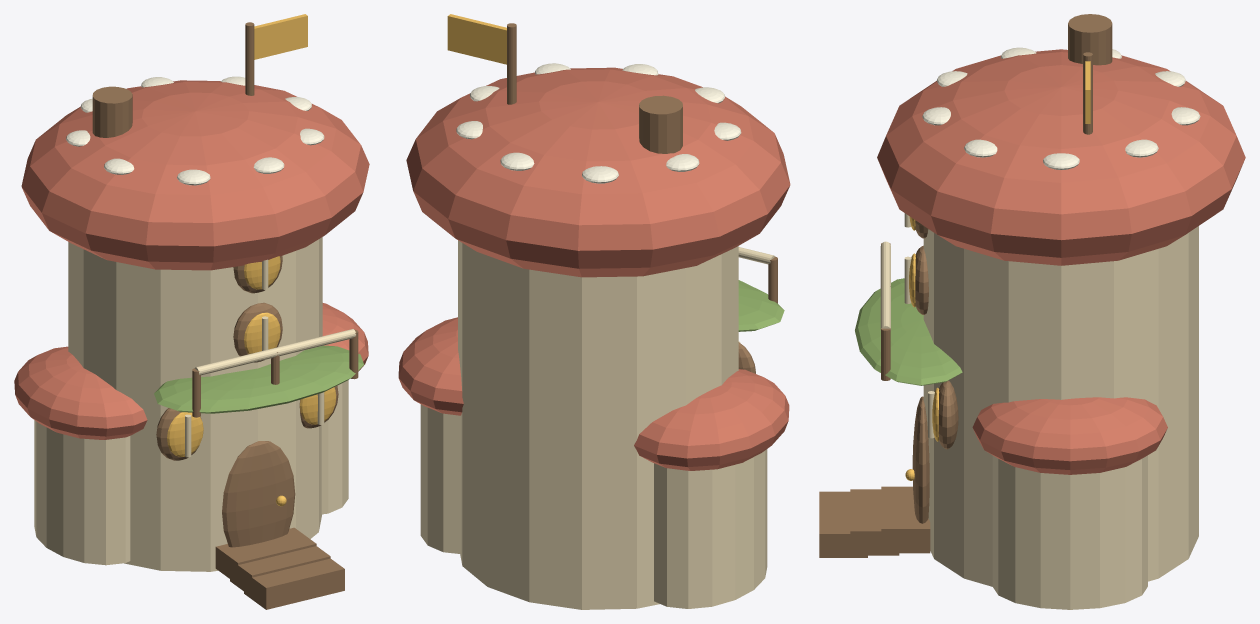
Rendered from AntHome3.fbx.
The picture shows the model from 3 angles, left to right: view 1: azimuth 30°, elevation 25°; view 2: azimuth 150°, elevation 25°; view 3: azimuth 270°, elevation 25°; orthographic projection. The views are drawn at different scales.
Parts seen in each view (by area): view 1: Cap roof.001, Stump home.001, Side room, Side roof, Upper leaf balcony.001, Door.001, Front step.005, Side room.001, Front step.003, Chimney.001, Garden pennant, Balcony rail.001 (+9 smaller); view 2: Stump home.001, Cap roof.001, Side room, Side roof, Side room.001, Side roof.001, Chimney.001, Garden pennant, Upper leaf balcony.001, Flag pole, Ivory spot.012; view 3: Cap roof.001, Stump home.001, Side room.001, Side roof.001, Upper leaf balcony.001, Front step.003, Front step.004, Front step.005, Chimney.001, Door.001, Window frame.004, Balcony rail.001 (+2 smaller).
Boxes of the visible parts, <box> form: Cap roof.001: <box>21,80,369,270</box>; Stump home.001: <box>68,237,322,571</box>; Side room: <box>34,420,130,565</box>; Side roof: <box>14,346,147,439</box>; Upper leaf balcony.001: <box>154,345,364,413</box>; Door.001: <box>222,441,295,547</box>; Front step.005: <box>244,558,344,609</box>; Side room.001: <box>321,380,348,514</box>; Front step.003: <box>215,527,316,584</box>; Chimney.001: <box>92,86,132,137</box>; Garden pennant: <box>254,14,307,59</box>; Balcony rail.001: <box>194,329,355,375</box>; Stump home.001: <box>458,240,738,609</box>; Cap roof.001: <box>406,67,790,277</box>; Side room: <box>654,449,767,608</box>; Side roof: <box>634,369,789,470</box>; Side room.001: <box>420,404,460,553</box>; Side roof.001: <box>398,317,463,415</box>; Chimney.001: <box>639,95,682,153</box>; Garden pennant: <box>447,14,506,64</box>; Upper leaf balcony.001: <box>738,280,784,331</box>; Flag pole: <box>507,23,516,104</box>; Ivory spot.012: <box>582,166,618,183</box>; Cap roof.001: <box>877,49,1245,265</box>; Stump home.001: <box>923,226,1198,586</box>; Side room.001: <box>992,455,1147,609</box>; Side roof.001: <box>972,397,1167,474</box>; Upper leaf balcony.001: <box>855,278,962,385</box>; Front step.003: <box>881,486,930,553</box>; Front step.004: <box>850,489,899,555</box>; Front step.005: <box>819,491,867,557</box>; Chimney.001: <box>1068,14,1112,65</box>; Door.001: <box>912,396,929,523</box>; Window frame.004: <box>938,380,958,449</box>; Balcony rail.001: <box>880,241,890,330</box>.
Bounding box in the file's own units: 188 × 257 × 192.
